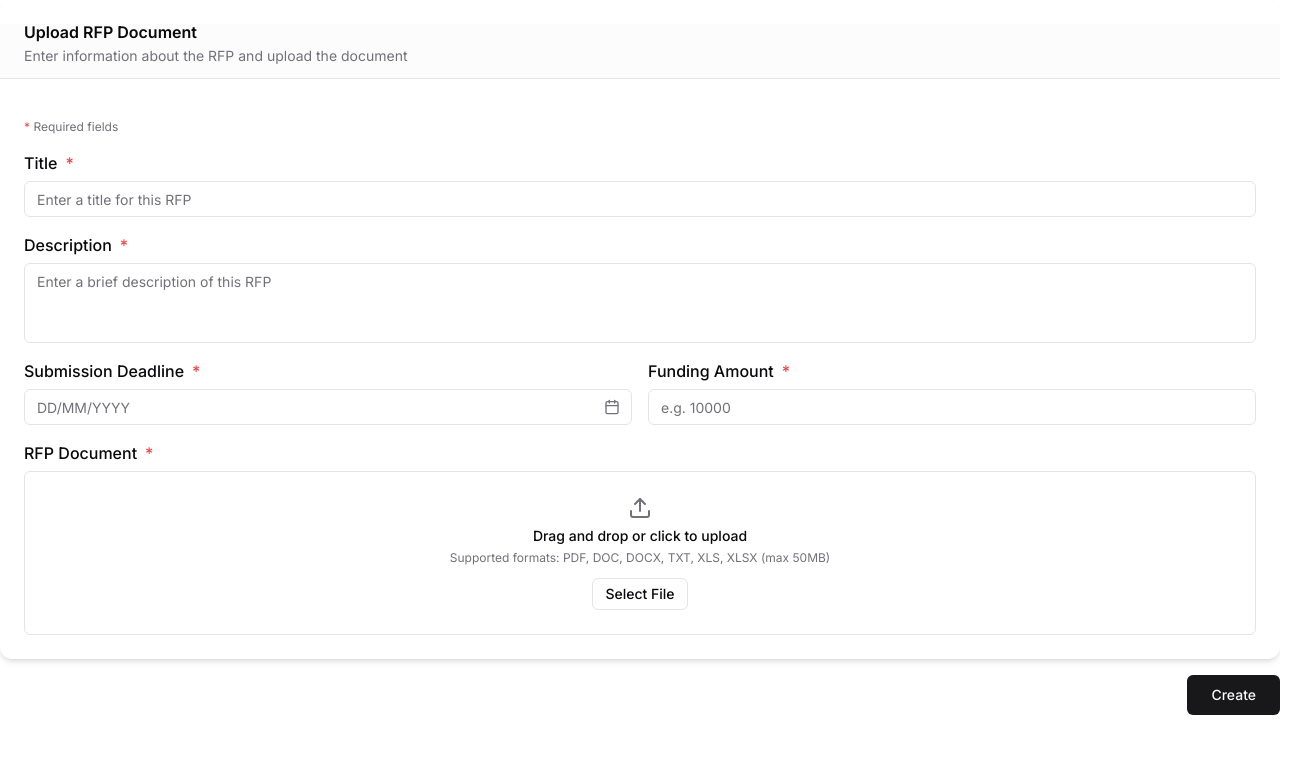
RfpForm › validates required fields
The image size is (1292, 766).
Note: Submit without filling required fields
Step 1. Click the button "Create" → (1234, 695), box [1187,675,1280,715]
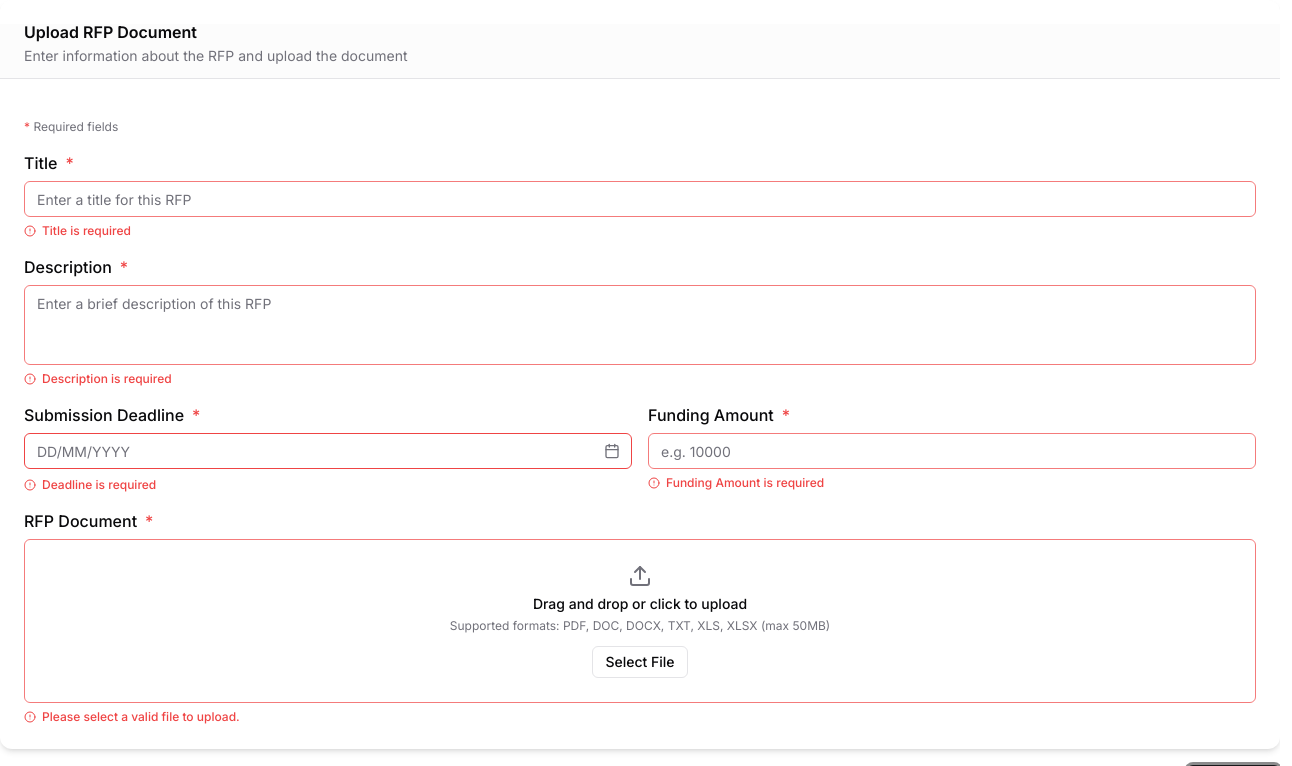
Expected: the text "Title is required" is shown, [24,223,131,238]
Expected: the text "Description is required" is shown, [24,371,172,386]
Expected: the text "Funding Amount is required" is shown, [648,475,824,490]
